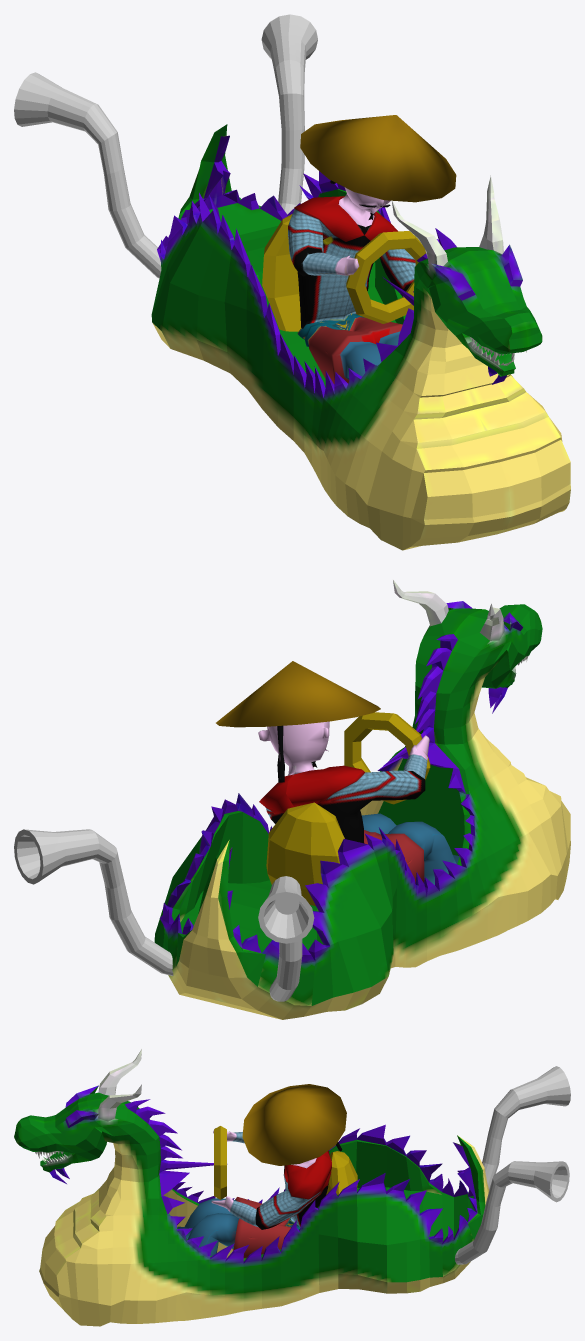
File: ChinoGiroIzq_000188.obj
3 views of the same model, one above another, from view 1: azimuth 30°, elevation 25°; view 2: azimuth 150°, elevation 25°; view 3: azimuth 270°, elevation 25° (orthographic). The views are drawn at different scales.
Visible parts, largest first — view 1: ChasisChino_ChasisChinoH, Chino_ChinoH, Tubos_TubosH, volanteChino_VolanteChinoH, AsientoChinoMalla_AsientoChinoMH; view 2: ChasisChino_ChasisChinoH, Chino_ChinoH, Tubos_TubosH, AsientoChinoMalla_AsientoChinoMH, volanteChino_VolanteChinoH; view 3: ChasisChino_ChasisChinoH, Chino_ChinoH, Tubos_TubosH, volanteChino_VolanteChinoH, AsientoChinoMalla_AsientoChinoMH.
Boxes of the visible parts, bbox=[...] form: ChasisChino_ChasisChinoH: bbox=[151, 124, 570, 550]; Chino_ChinoH: bbox=[288, 115, 456, 383]; Tubos_TubosH: bbox=[14, 14, 317, 278]; volanteChino_VolanteChinoH: bbox=[346, 231, 425, 323]; AsientoChinoMalla_AsientoChinoMH: bbox=[262, 214, 300, 331]; ChasisChino_ChasisChinoH: bbox=[154, 580, 570, 1019]; Chino_ChinoH: bbox=[216, 661, 459, 884]; Tubos_TubosH: bbox=[14, 829, 314, 1001]; AsientoChinoMalla_AsientoChinoMH: bbox=[266, 802, 344, 906]; volanteChino_VolanteChinoH: bbox=[344, 712, 430, 804]; ChasisChino_ChasisChinoH: bbox=[14, 1049, 489, 1326]; Chino_ChinoH: bbox=[177, 1084, 346, 1258]; Tubos_TubosH: bbox=[455, 1066, 570, 1264]; volanteChino_VolanteChinoH: bbox=[214, 1126, 226, 1199]; AsientoChinoMalla_AsientoChinoMH: bbox=[326, 1151, 357, 1194].
Bounding box in the file's own units: 6.15 × 6.07 × 13.3.
